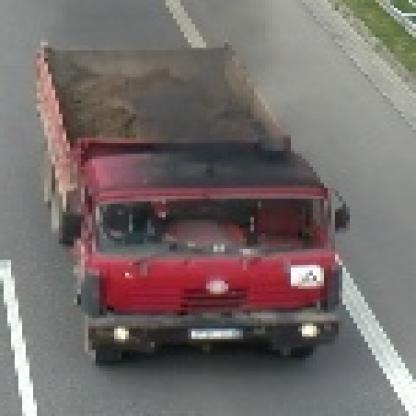truck: (31, 38, 347, 367)
